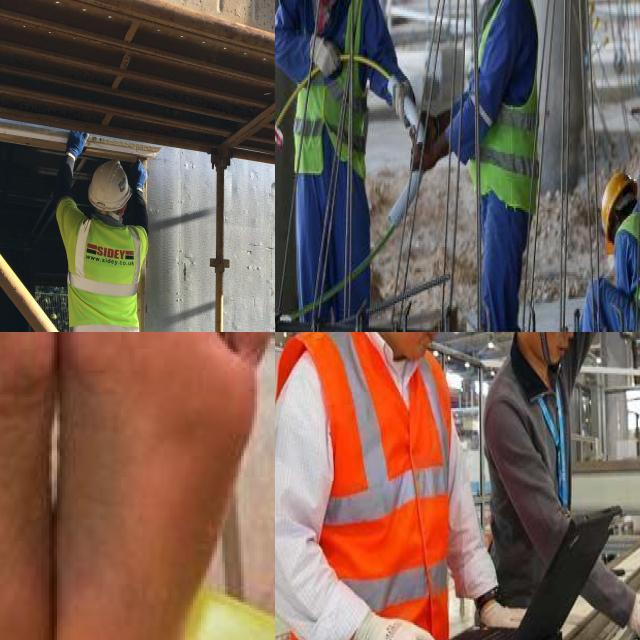Barefoots: (48, 332, 275, 640), (0, 332, 71, 640)
face_nomask: (383, 332, 449, 365), (532, 332, 578, 370)
hand_glove: (346, 601, 456, 640), (409, 127, 449, 177), (305, 34, 343, 80), (390, 66, 414, 132), (422, 100, 452, 142)
head_helmet: (597, 171, 637, 255), (88, 160, 133, 211)
person: (285, 332, 478, 640), (486, 332, 605, 618), (285, 0, 369, 332), (461, 0, 537, 332), (60, 130, 155, 332), (599, 153, 640, 332)
vest: (287, 332, 457, 640), (481, 0, 540, 206), (294, 0, 359, 166), (62, 208, 143, 332)
